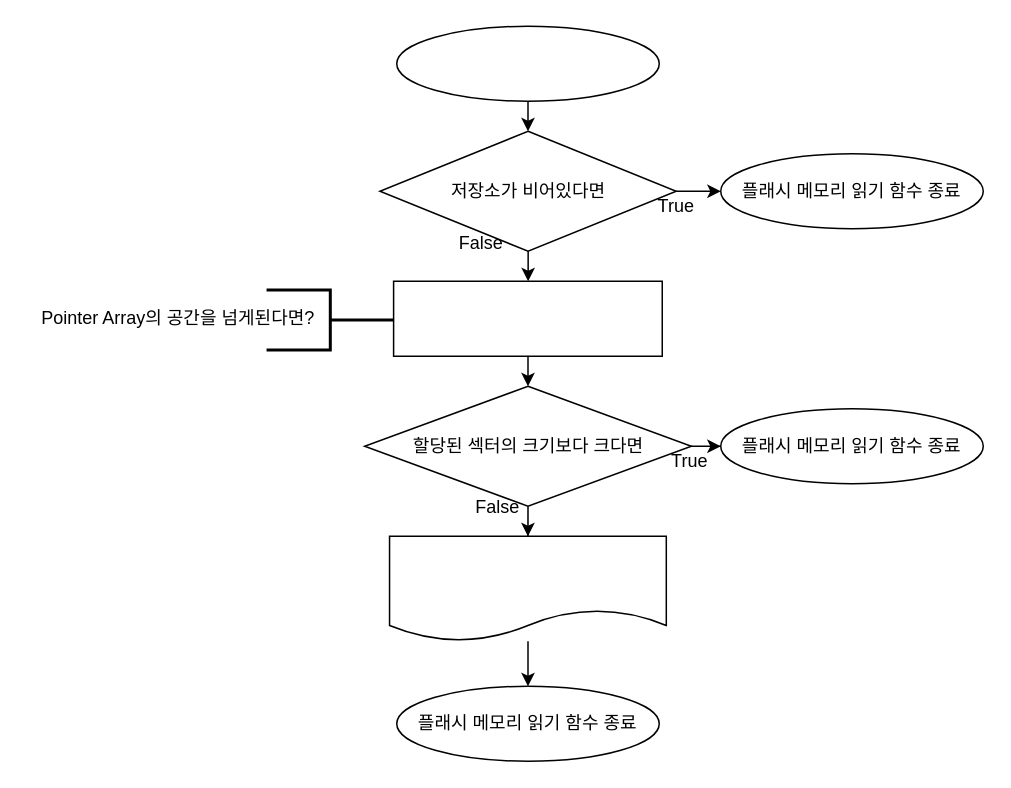
The diagram is 1011 pixels wide and 788 high, and some of its shapes have lost their labels. The shapes that lost their labels are listed below. From the top down, each one's centre as x and y in pixels, then its label:
pixel 527 63: 플래시 메모리 읽기 함수 호출
pixel 527 318: 함수의 인자 값(PSN)과 할당된 섹터의 크기를 비교
pixel 527 588: 해당 섹터의 데이터 크기만큼 데이터를 출력해준다.
